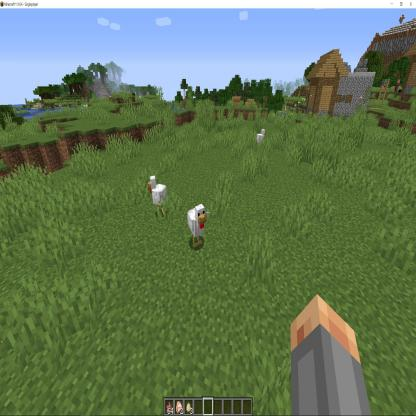minecraft-pigs: (187, 201, 209, 250), (147, 175, 169, 217), (256, 129, 266, 154)
